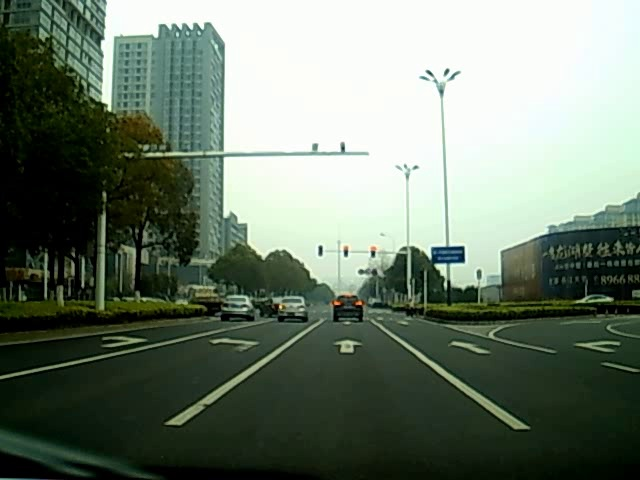Traffic_Light_stop: (370, 245, 378, 261), (343, 246, 349, 259)
